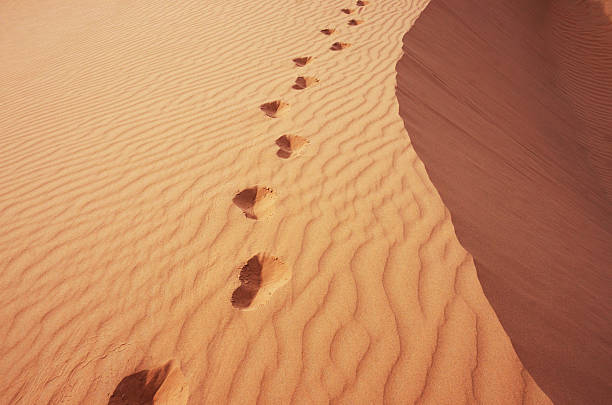human_foot_print: (108, 360, 188, 404), (231, 253, 291, 309), (232, 185, 275, 219), (275, 134, 308, 158), (260, 100, 288, 117), (292, 76, 318, 89), (293, 56, 312, 66), (330, 42, 350, 50), (320, 28, 335, 34), (348, 19, 363, 25), (356, 0, 368, 6), (341, 8, 354, 13)
